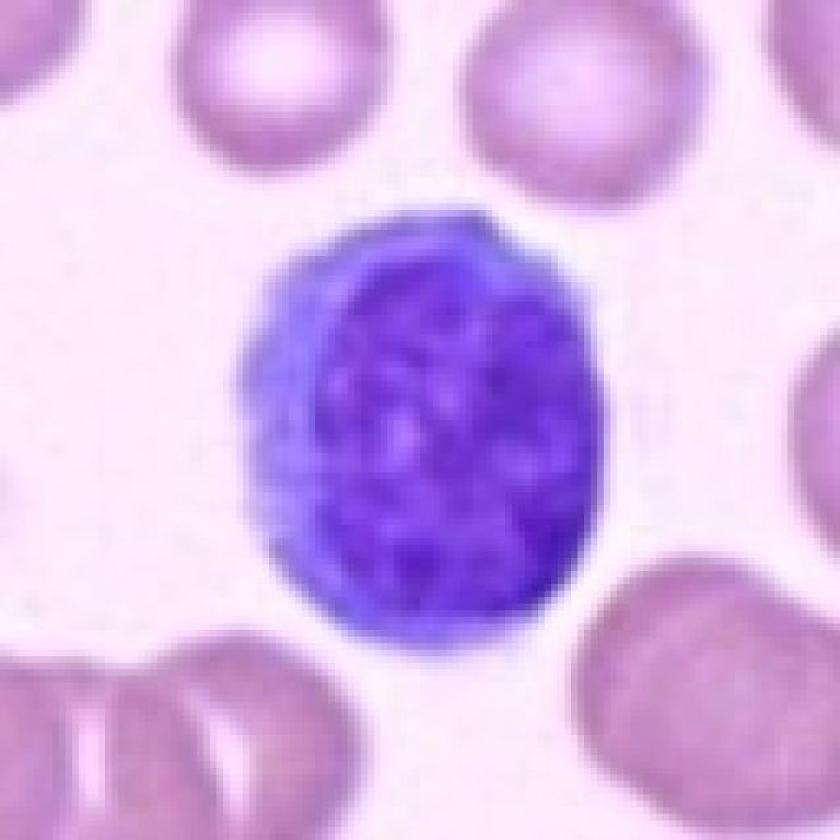lymphocyte: (235, 202, 611, 668)
